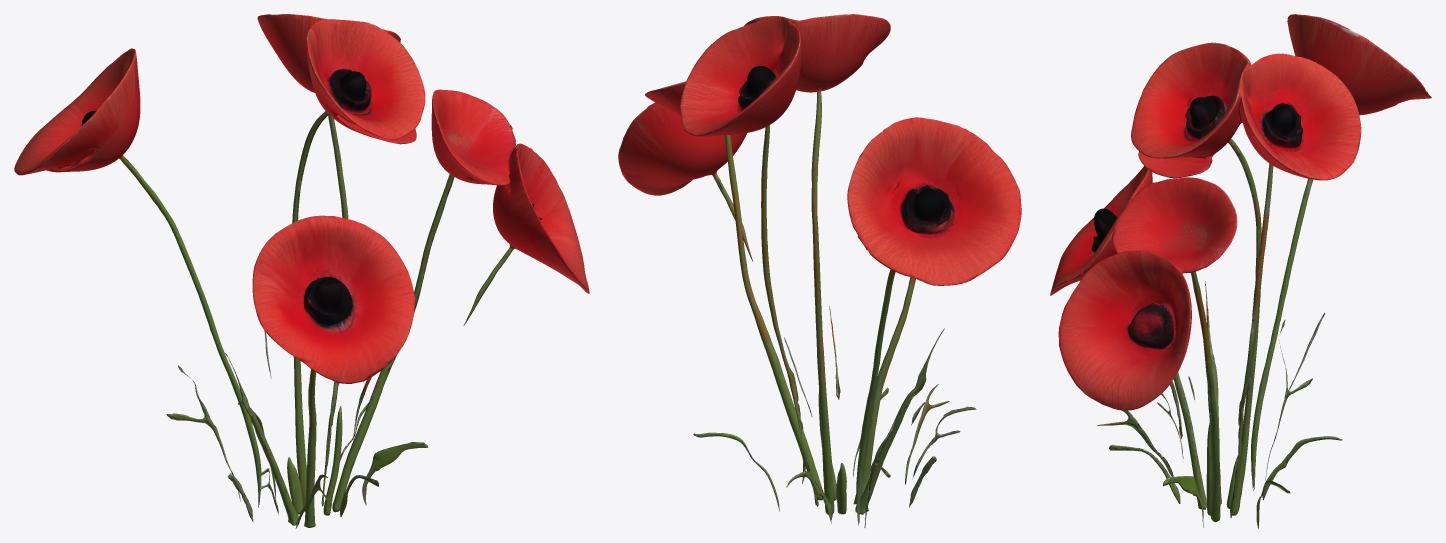
The model's file is wildflower_poppies.glb.
The picture shows the model from 3 angles, left to right: view 1: azimuth 30°, elevation 25°; view 2: azimuth 150°, elevation 25°; view 3: azimuth 270°, elevation 25°; orthographic projection. The views are drawn at different scales.
Parts seen in each view (by area): view 1: model; view 2: model; view 3: model.
Part boxes in pixels (left/top/right/bottom): model: left=14, top=14, right=589, bottom=528; model: left=618, top=14, right=1021, bottom=527; model: left=1050, top=14, right=1431, bottom=528.
Bounding box in the file's own units: 1.88 × 1.88 × 1.38.
1 material, 1 textured.
